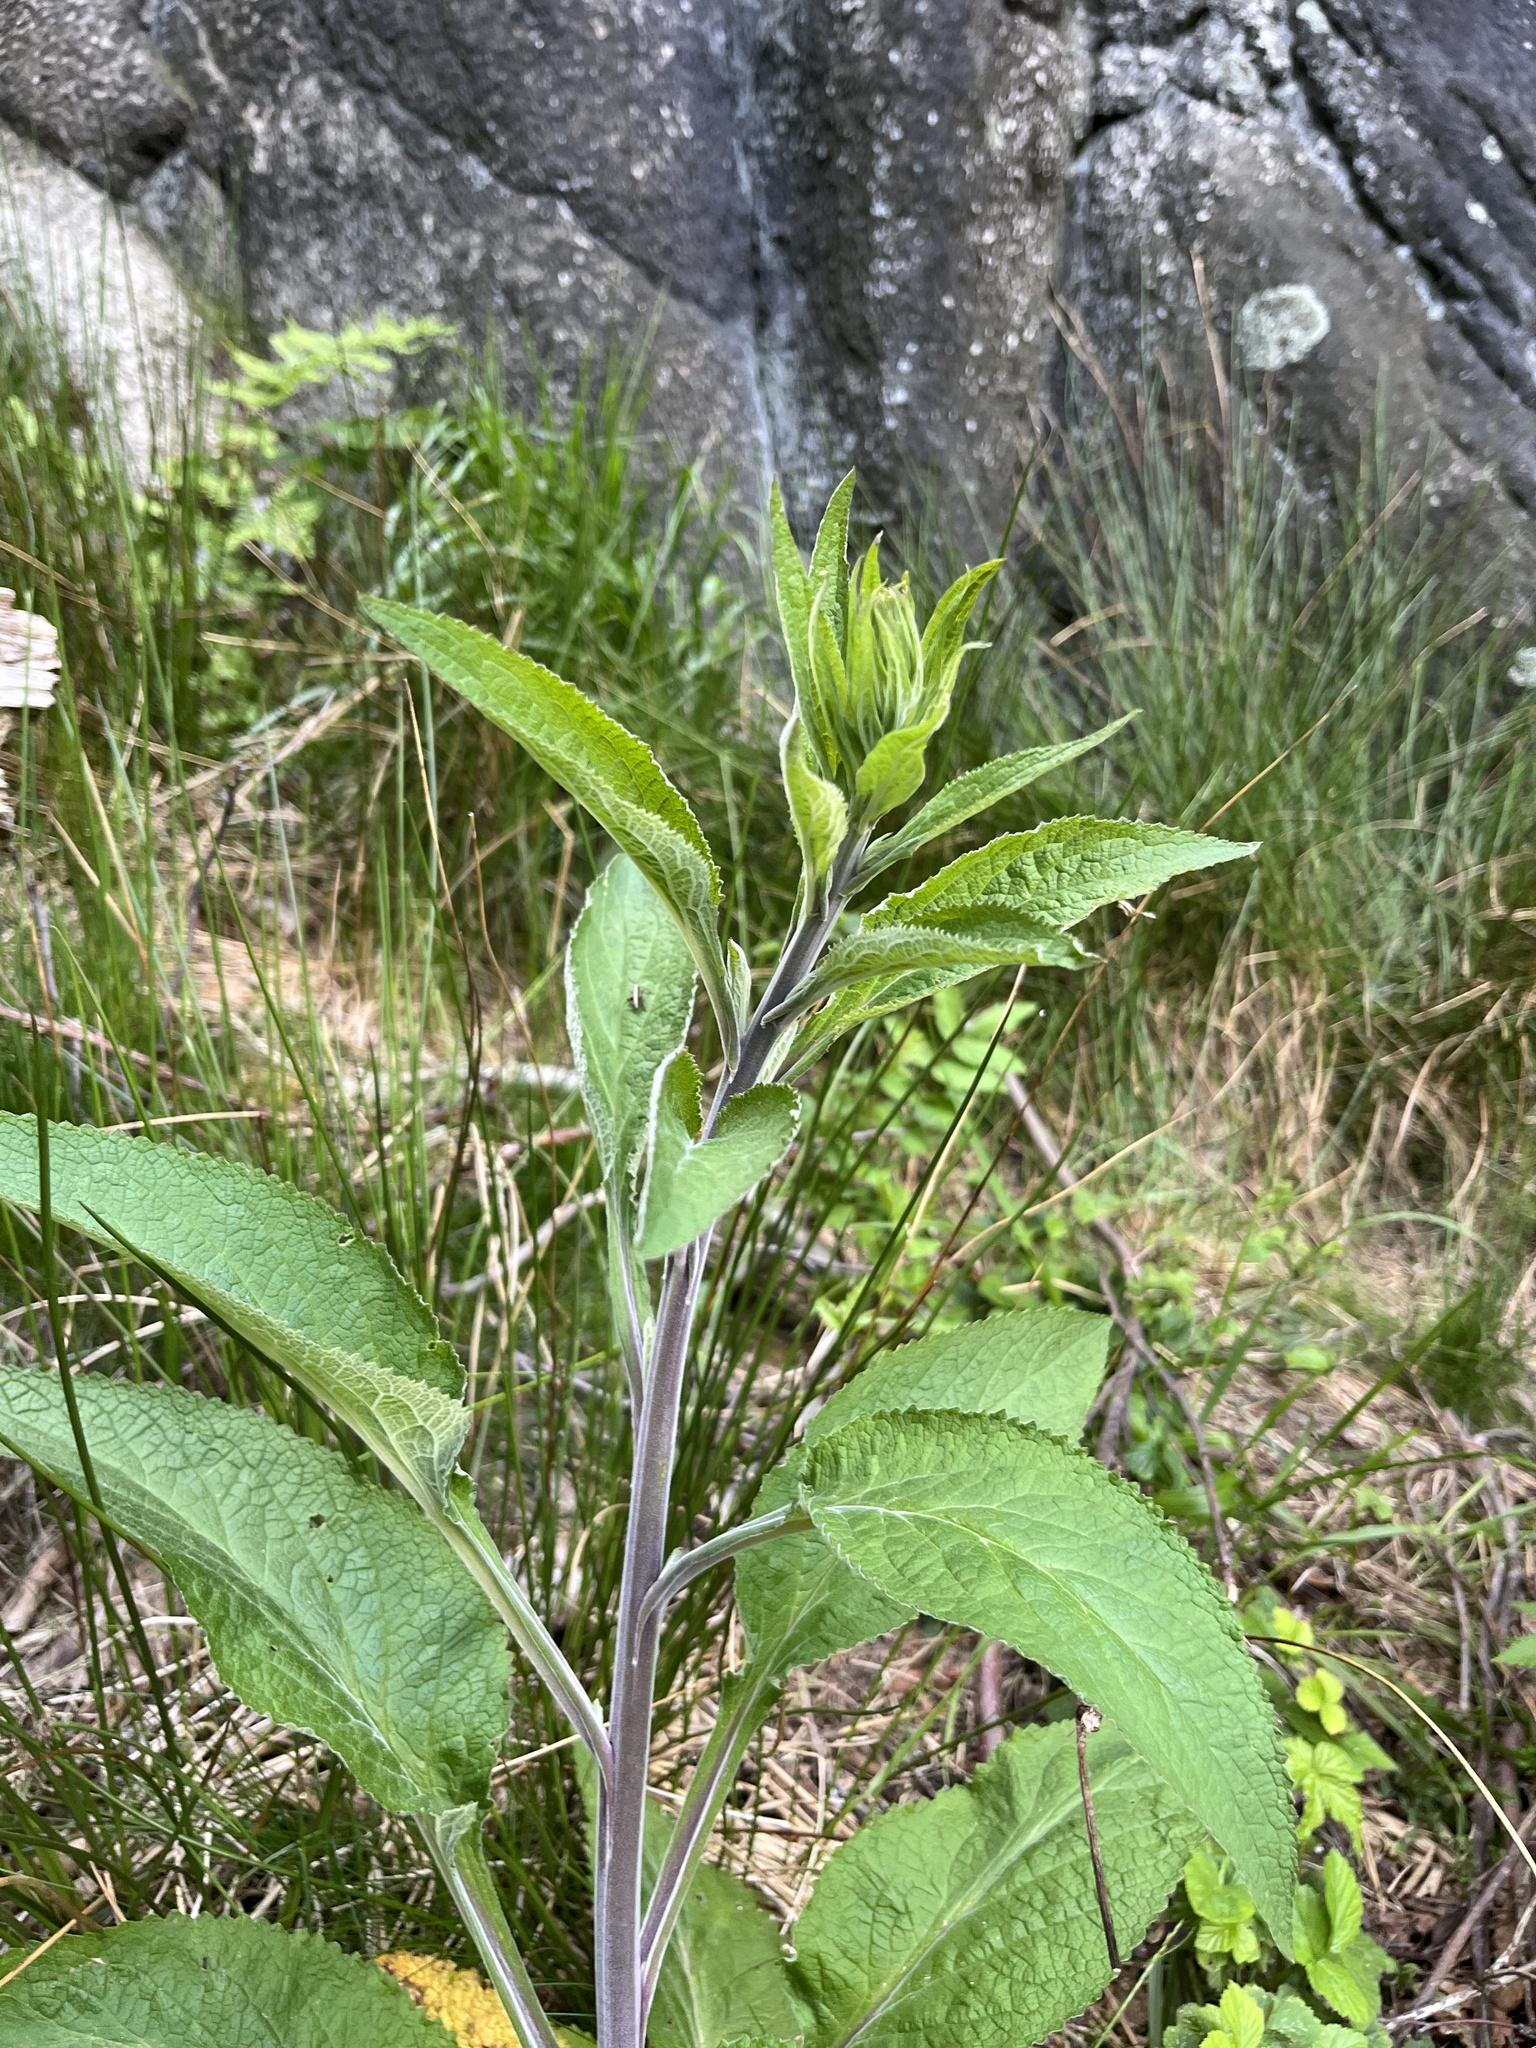Digitalis L: (15, 492, 1309, 2042)
